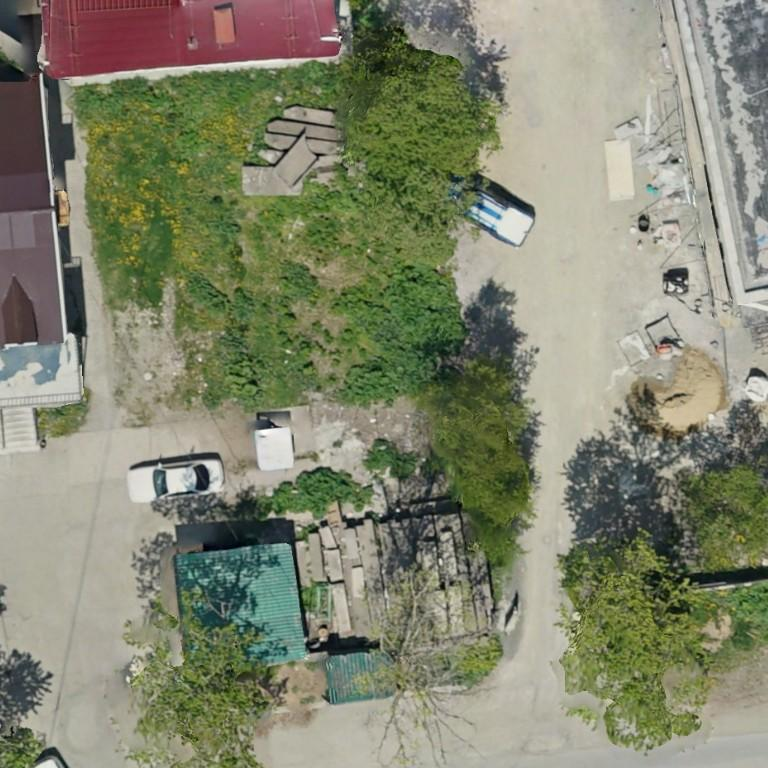hogweed: (336, 269, 464, 398), (265, 466, 371, 518), (363, 438, 419, 481), (718, 586, 767, 629), (186, 271, 230, 313), (281, 261, 317, 298), (208, 218, 239, 233)
